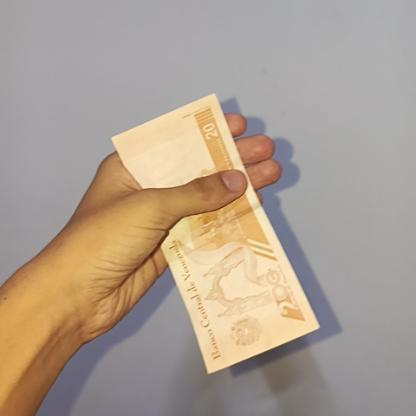twenty-back-vef: (109, 92, 318, 374)
